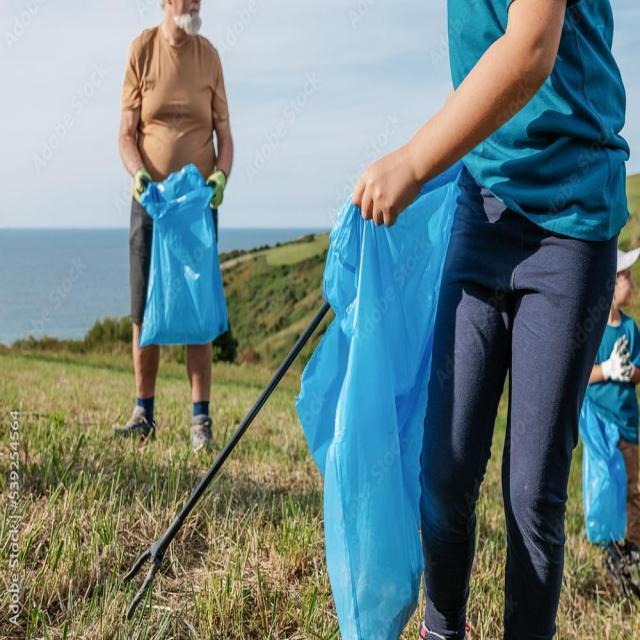KantongPlastik: (288, 202, 448, 640), (133, 169, 236, 356)
